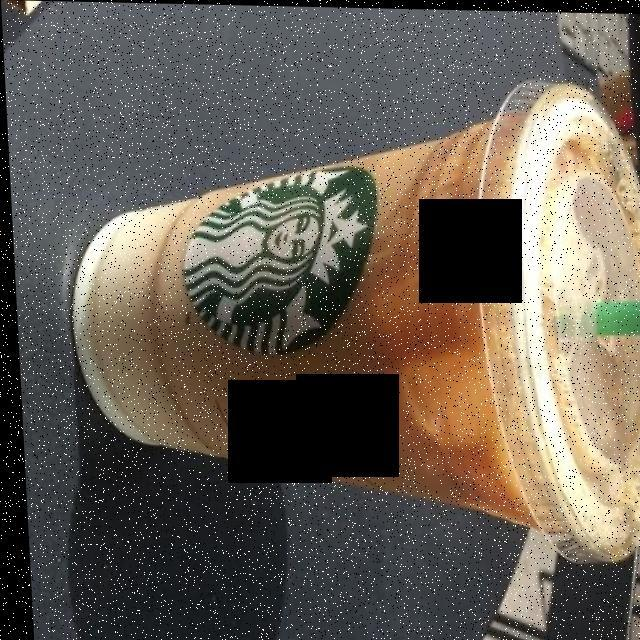coffee: (79, 92, 640, 544)
